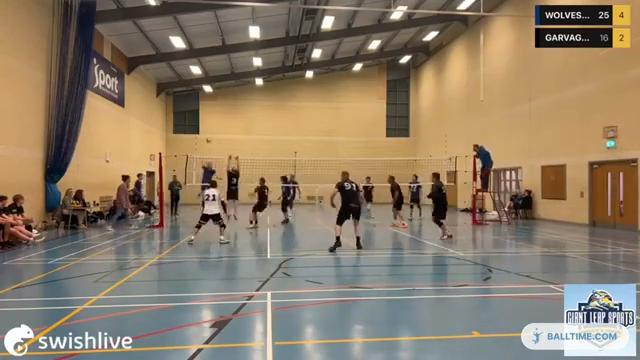attacco: (199, 157, 222, 192)
muro: (222, 148, 241, 224)
